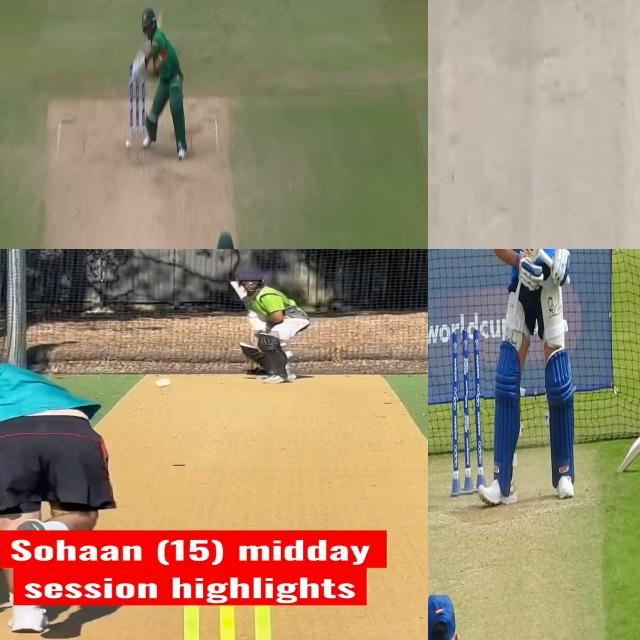Cricket ball: (154, 378, 172, 389), (125, 140, 131, 150)
Stumps: (451, 329, 485, 499), (167, 600, 289, 640)
